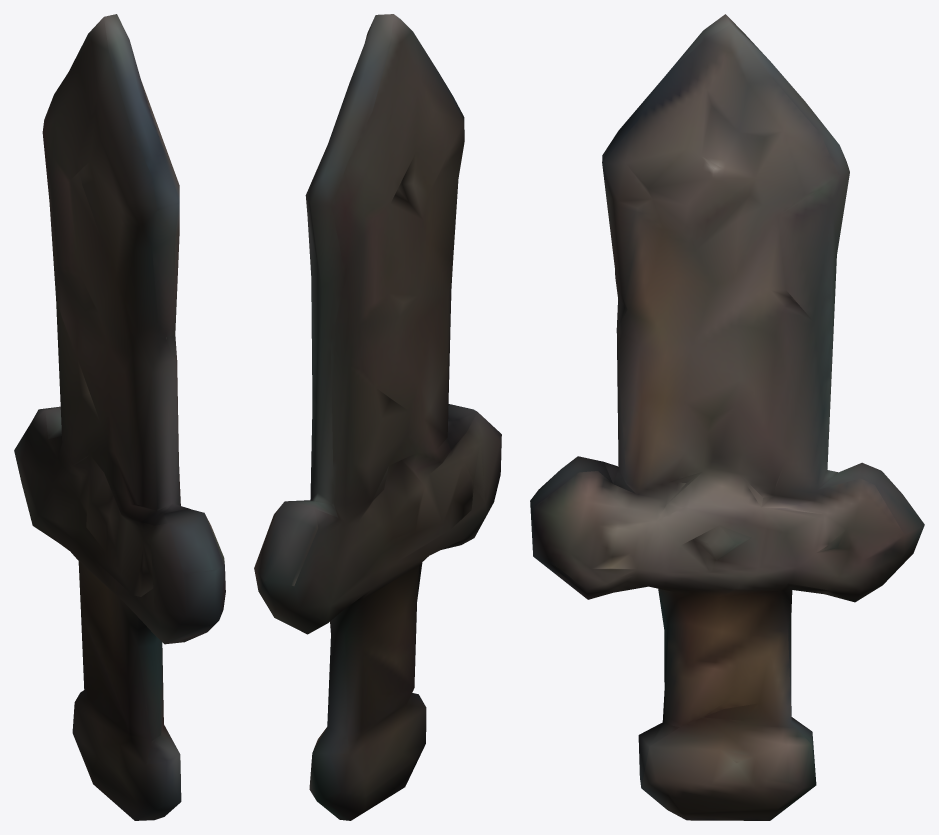
Rendered from sword_silver.glb.
The picture shows the model from 3 angles, left to right: view 1: azimuth 30°, elevation 25°; view 2: azimuth 150°, elevation 25°; view 3: azimuth 270°, elevation 25°; orthographic projection.
Visible parts, largest first — view 1: model; view 2: model; view 3: model.
Part boxes in pixels (bbox=[...]): model: bbox=[14, 14, 225, 820]; model: bbox=[254, 14, 501, 820]; model: bbox=[530, 14, 924, 820].
Size of the model in its own units: 0.0751 by 0.7501 by 0.339.
1 material, 1 textured.
